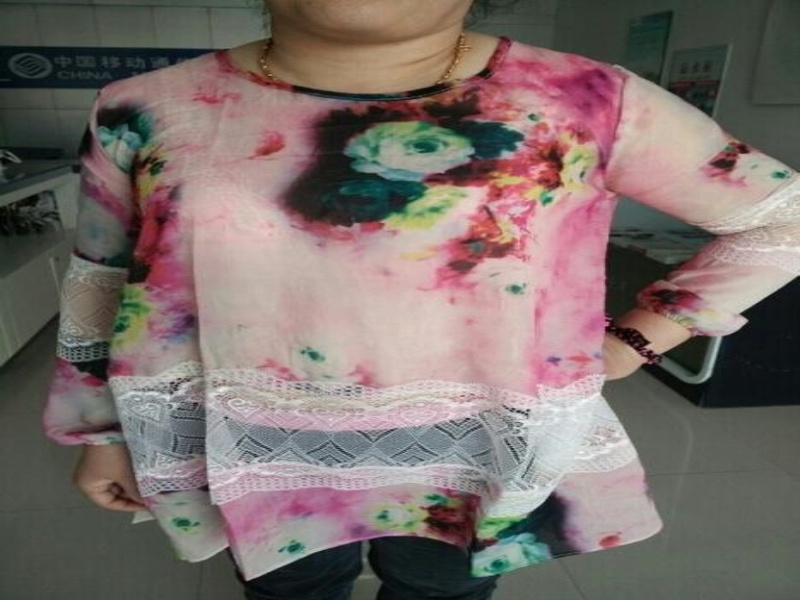long_sleeved_shirt: (31, 33, 797, 589)
trousers: (188, 401, 533, 599)
